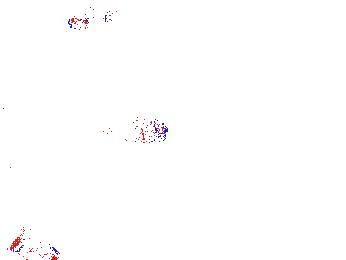X-ray fish: (103, 114, 174, 145)
red belly glassfish: (64, 7, 114, 32)
